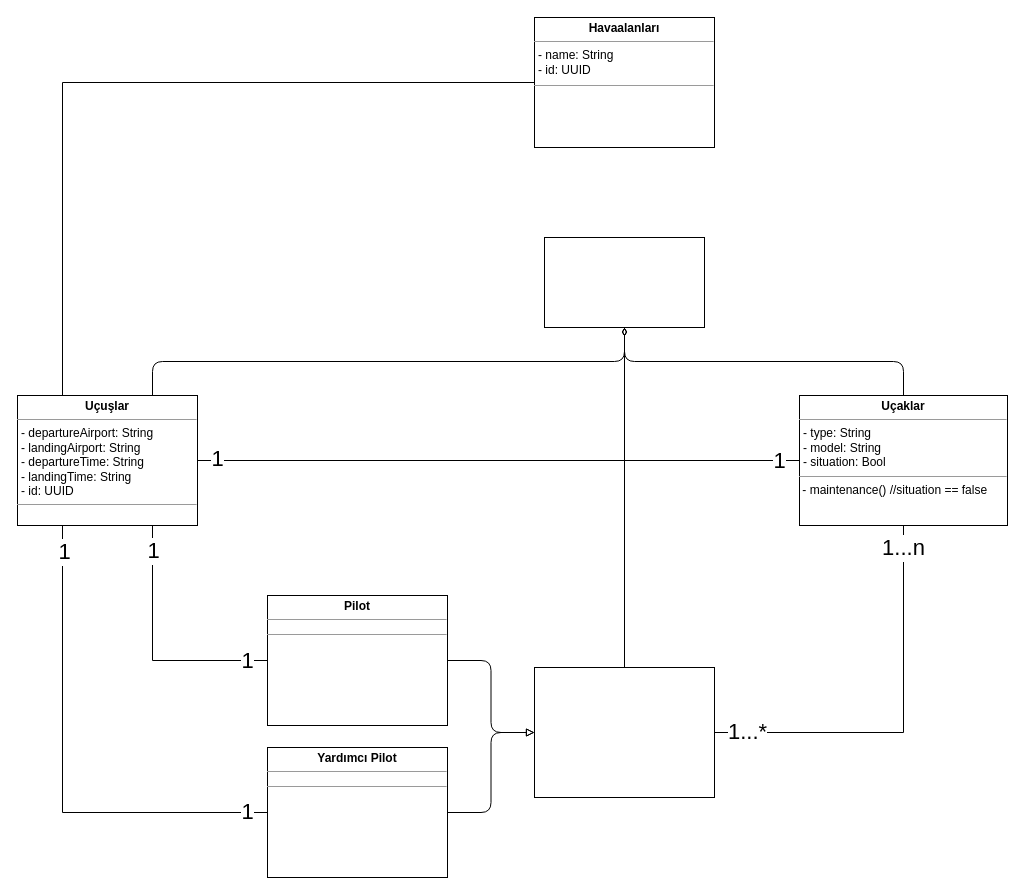
This 1025x895 diagram has some shape labels left out. Each missing label, with the box of its shape:
Havayolu Şirketleri - name: String - id: UUID + method(): Type: (544, 236, 704, 328)
Pilotlar - name: String - grade: String: (534, 666, 714, 798)
